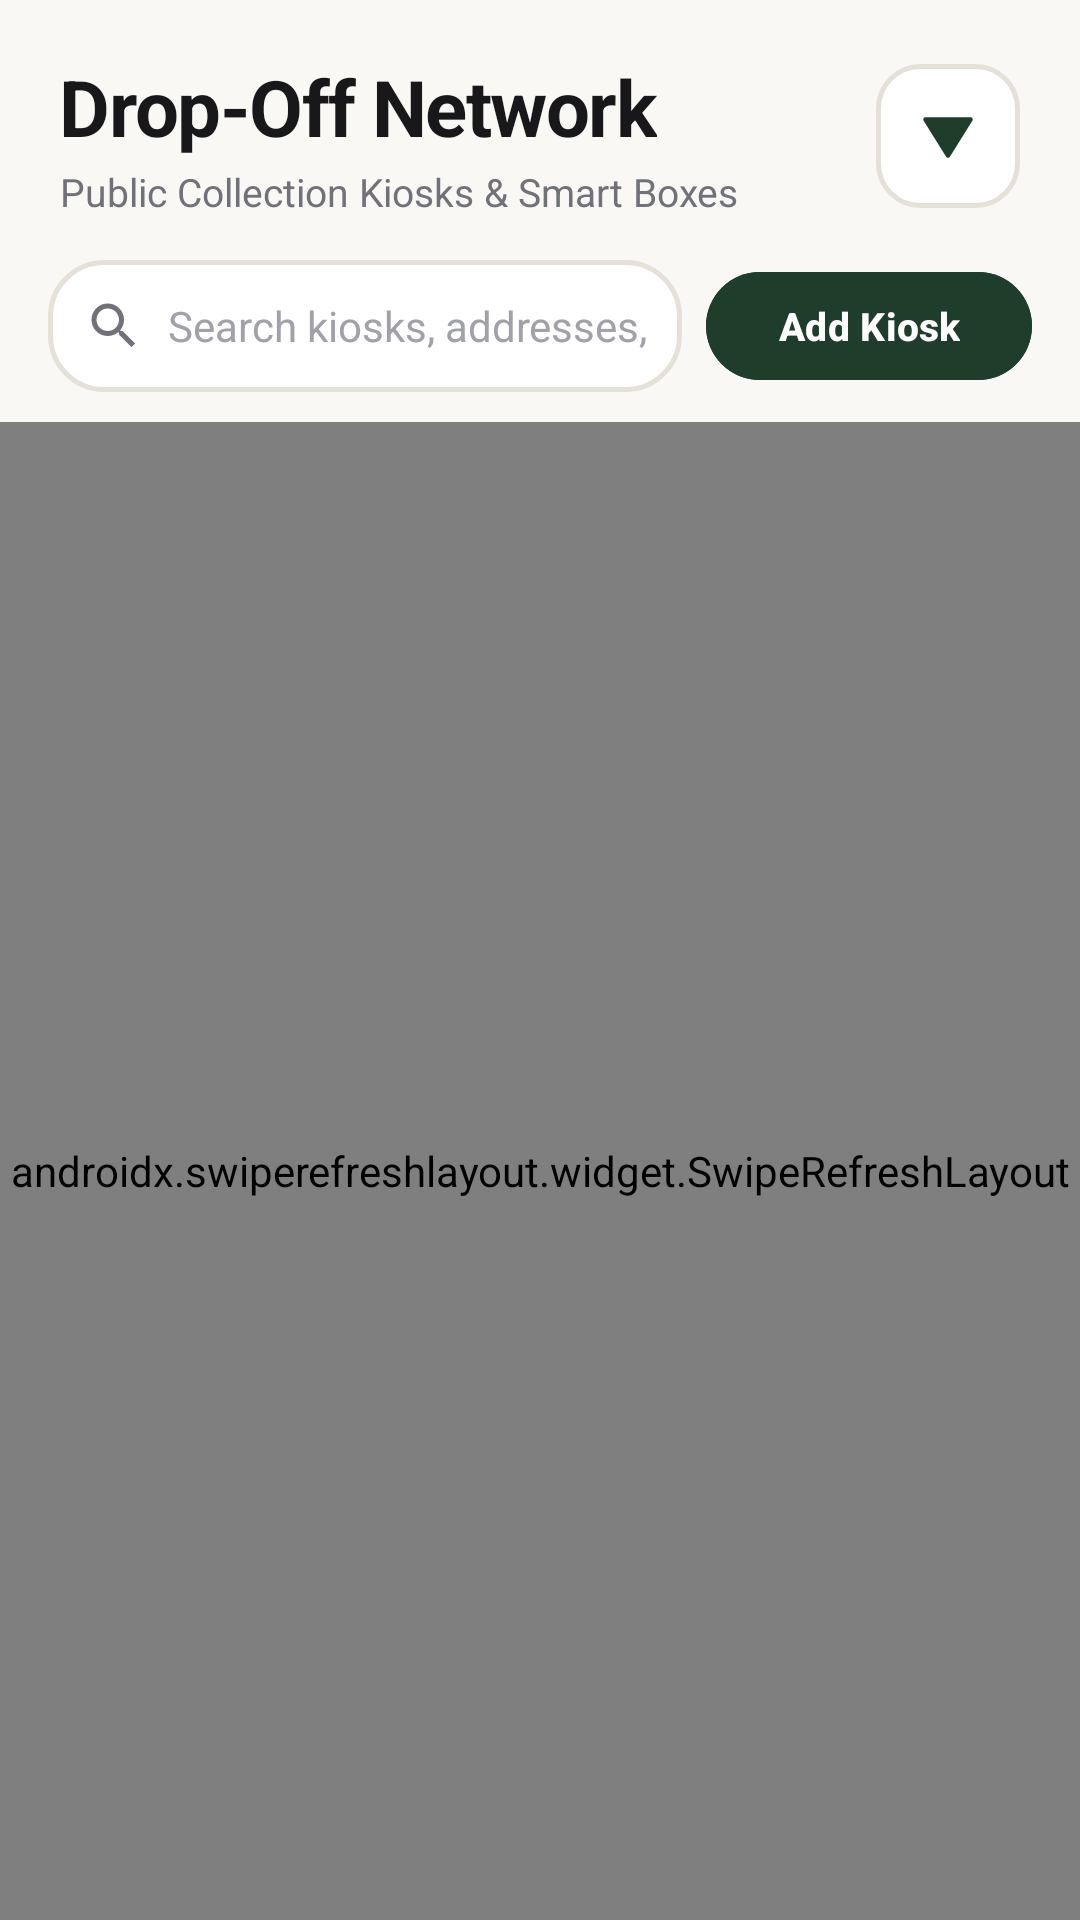

Screen size 1080x1920. Icon name, then its center in pixels as point (x, y):
Quick Action Menu: point (948, 136)
